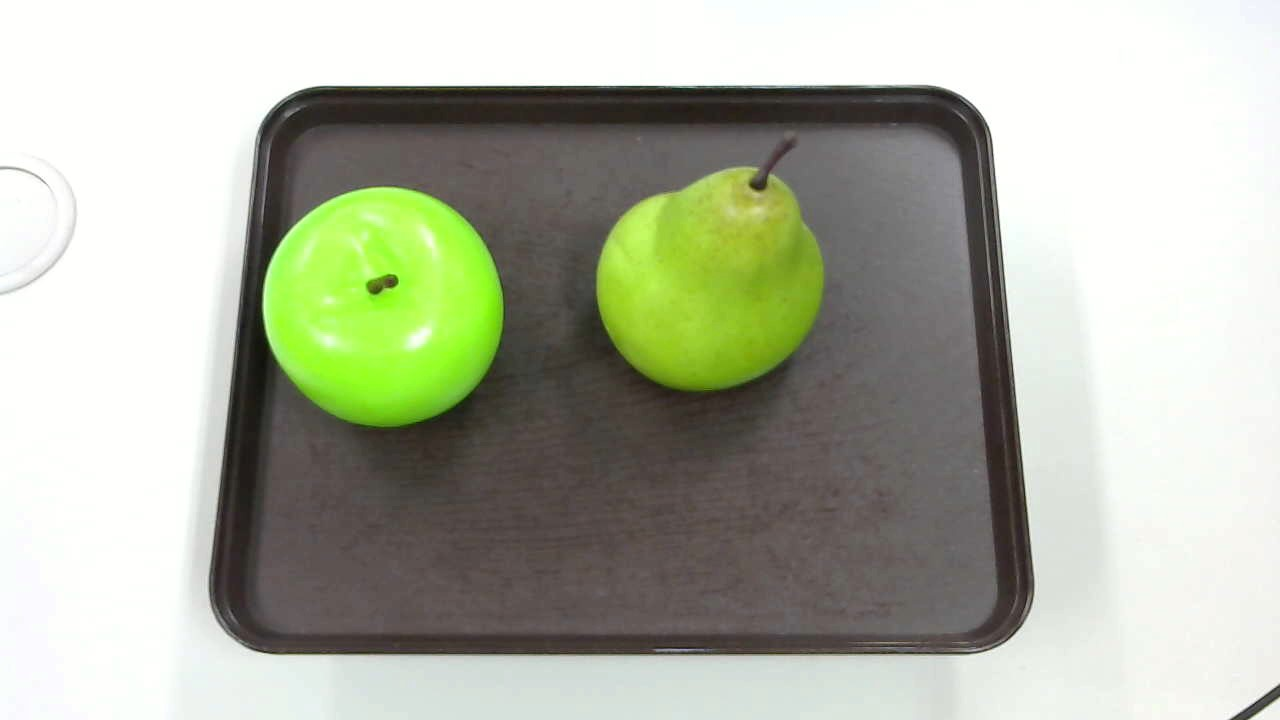green apple: (251, 174, 514, 432)
green pear: (595, 127, 828, 397)
